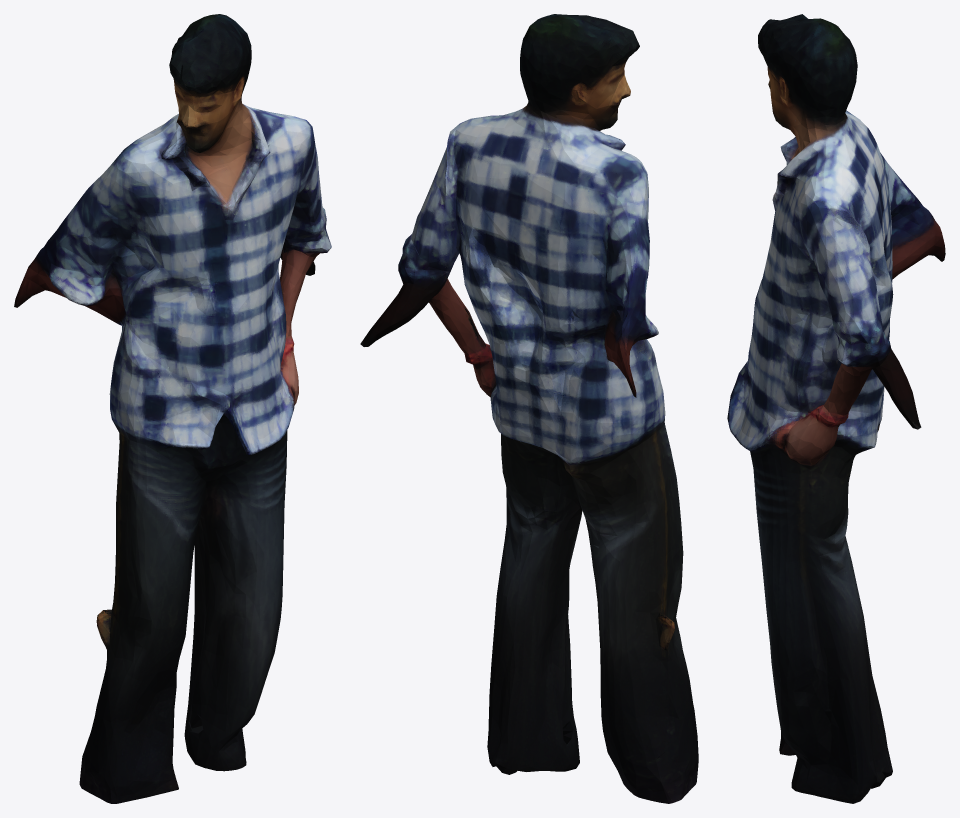
3 renders of one model, left to right at view 1: azimuth 30°, elevation 25°; view 2: azimuth 150°, elevation 25°; view 3: azimuth 270°, elevation 25°, orthographic.
Parts seen in each view (by area): view 1: world; view 2: world; view 3: world.
Part boxes in pixels (<box>): world: <box>14,14,331,803</box>; world: <box>360,14,698,803</box>; world: <box>727,14,945,803</box>.
Bounding box in the file's own units: 0.4034 × 1 × 0.2606.
Materials: 1 (1 with a texture image).
